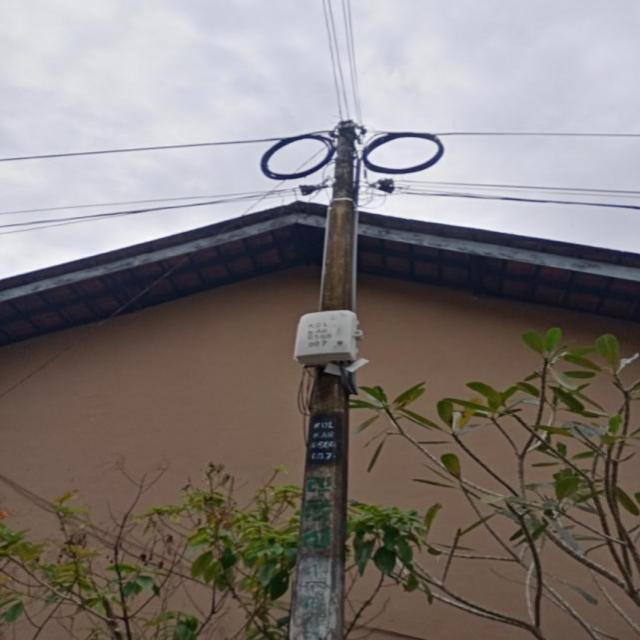light_pole: (280, 121, 388, 640)
